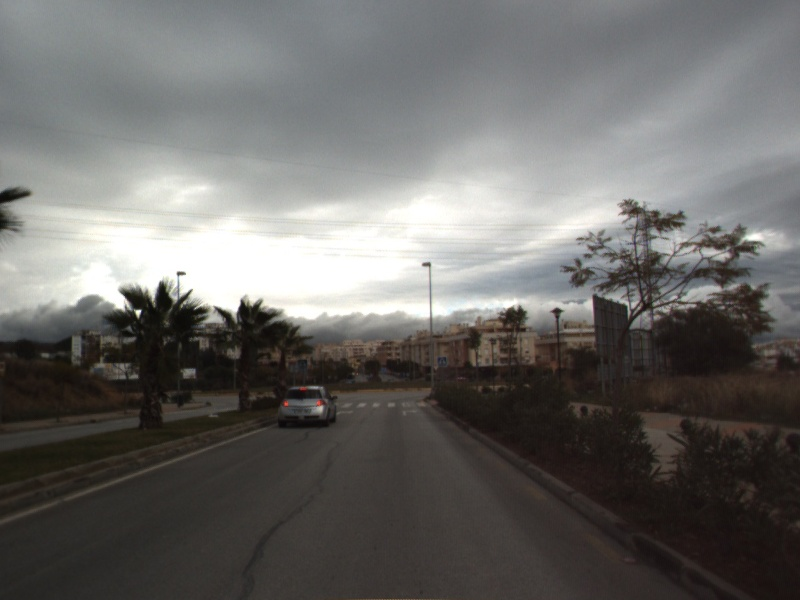RIGHT: (400, 407, 420, 418), (334, 408, 356, 417)
